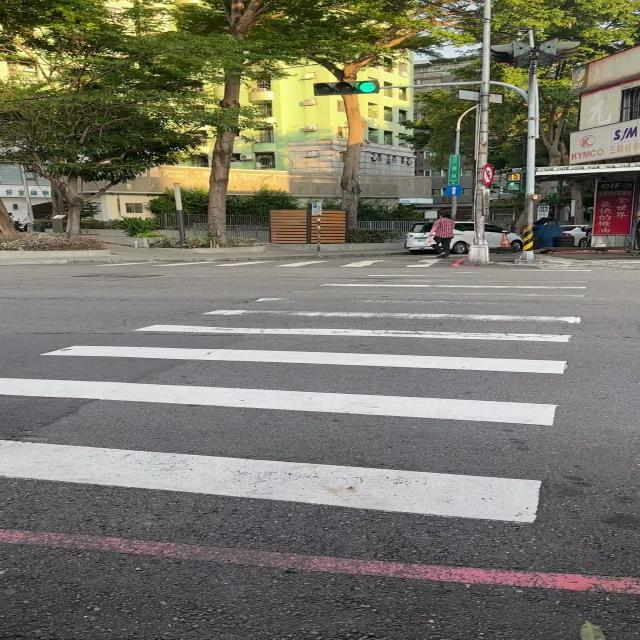car: (485, 222, 523, 249), (404, 221, 435, 254), (450, 220, 474, 254)
crosswalk: (0, 269, 593, 524), (90, 259, 445, 267)
pedestrian: (428, 212, 454, 258)
